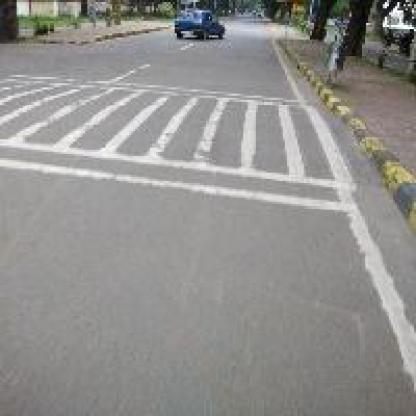Speed Bump: (0, 69, 358, 214)
